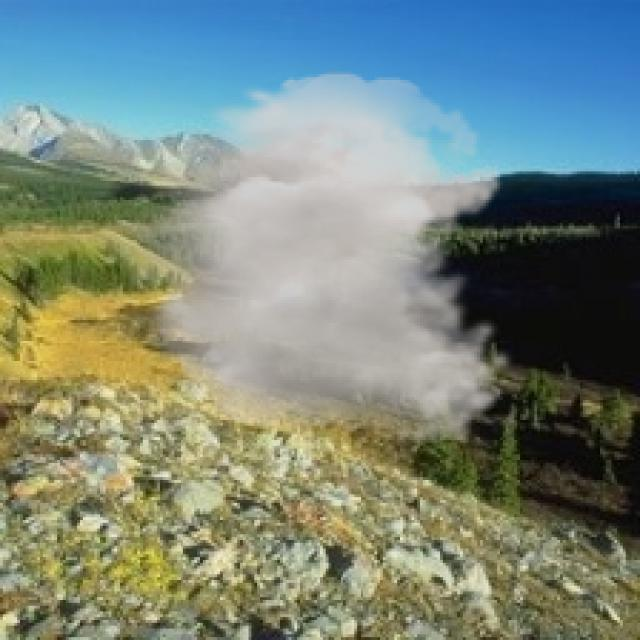smoke: (97, 71, 517, 446)
